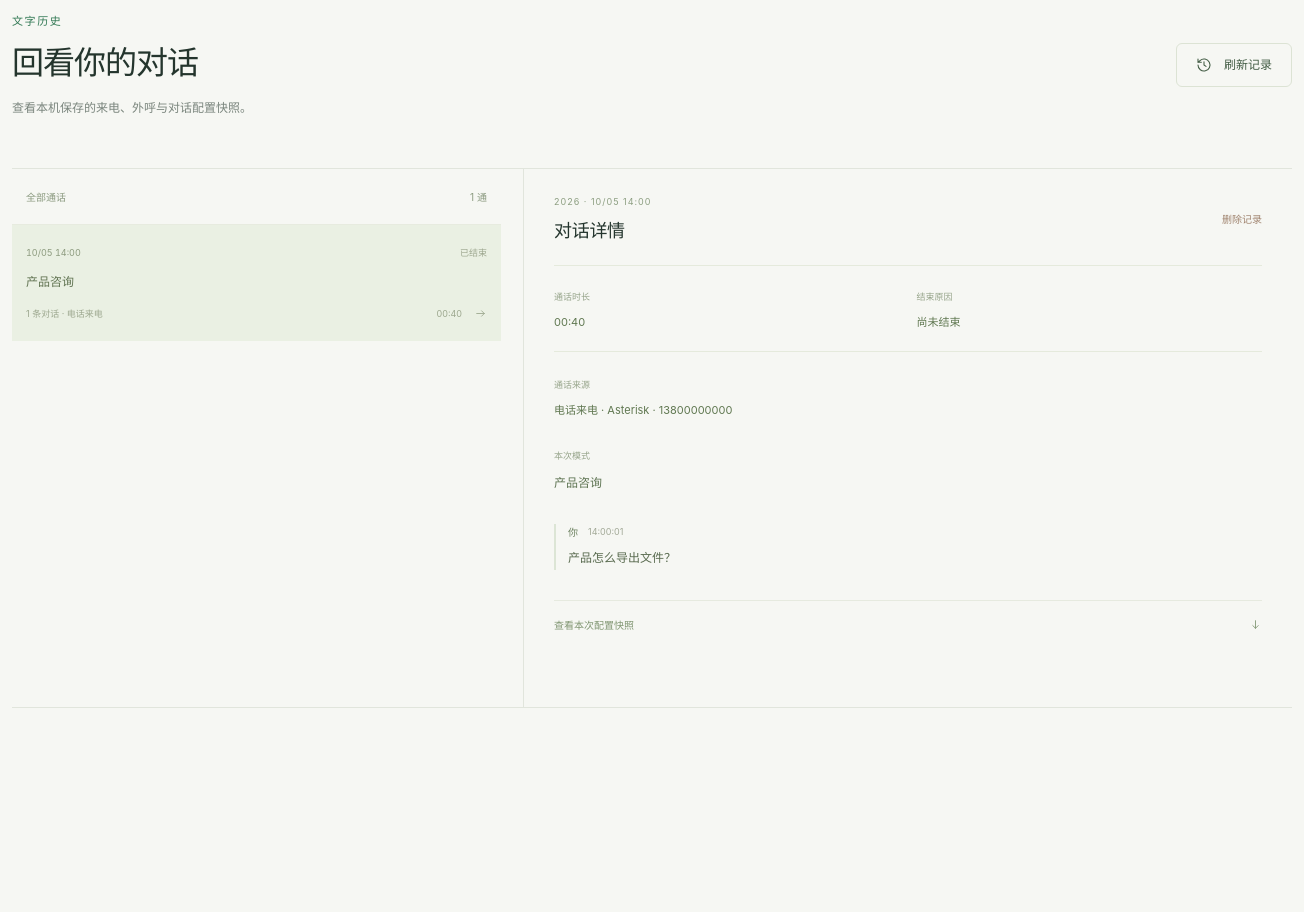
Test: 咨询配置和来电监控 › 来电历史使用咨询配置，旧无模式和方向字段仍识别为销售外呼
Expected: the text "产品怎么导出文件？" is shown, top-left (568, 550), bottom-right (676, 565)
Expected: the text "电话来电 · Asterisk · 13800000000" is shown, top-left (554, 403), bottom-right (732, 417)
Click the heading "查看本次配置快照".
click(594, 625)  # box top-left (554, 617), bottom-right (1262, 632)
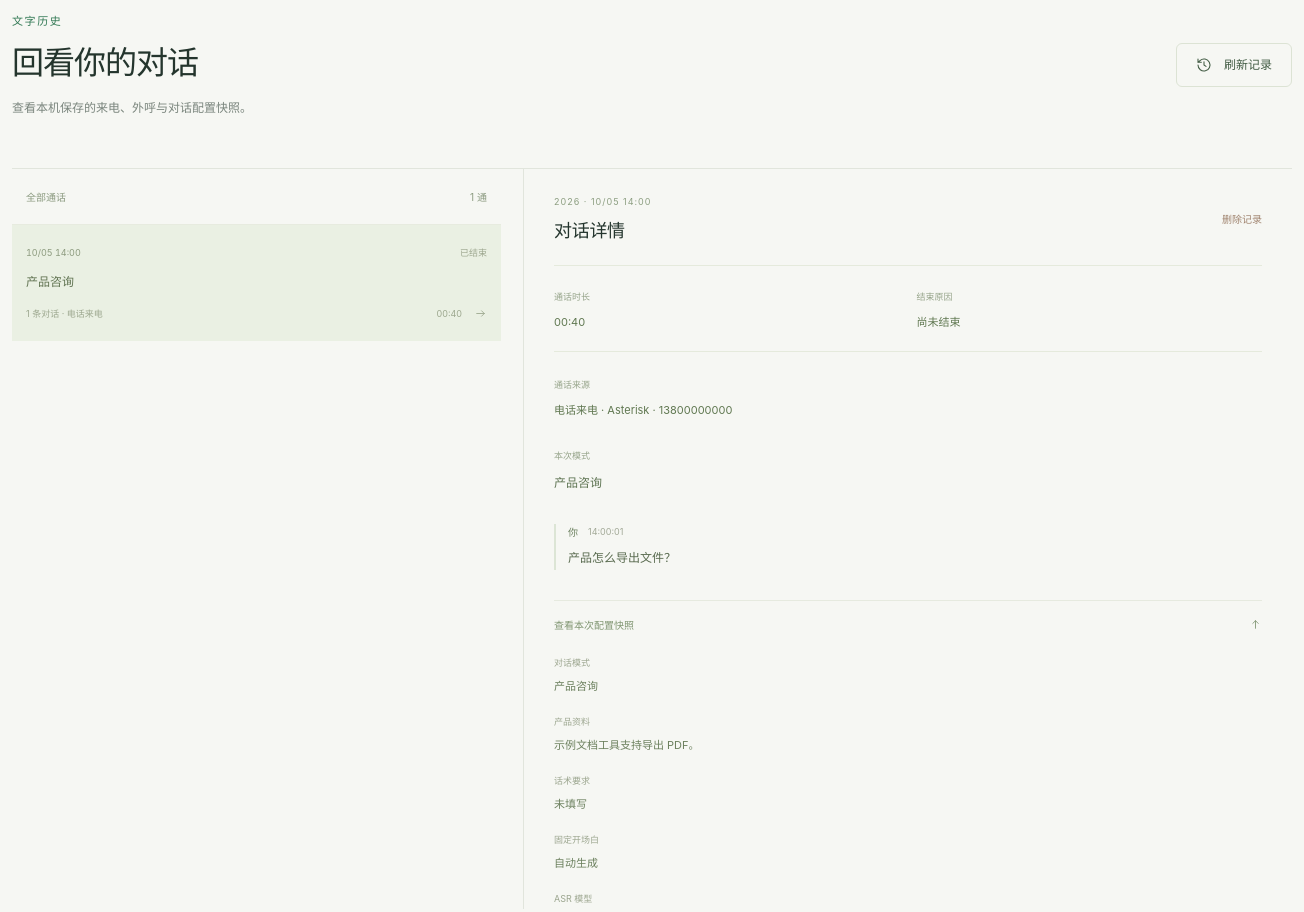
Expected: the text "示例文档工具支持导出 PDF。" is shown, top-left (554, 738), bottom-right (700, 752)
